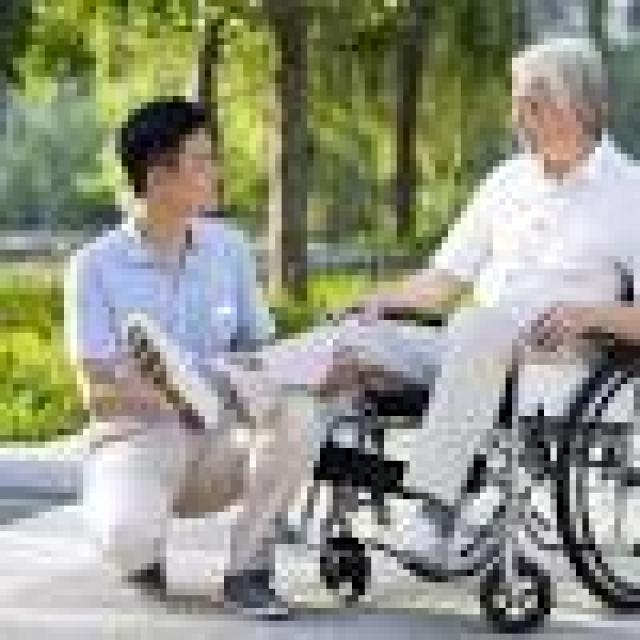wheelchairs: (282, 262, 634, 628)
